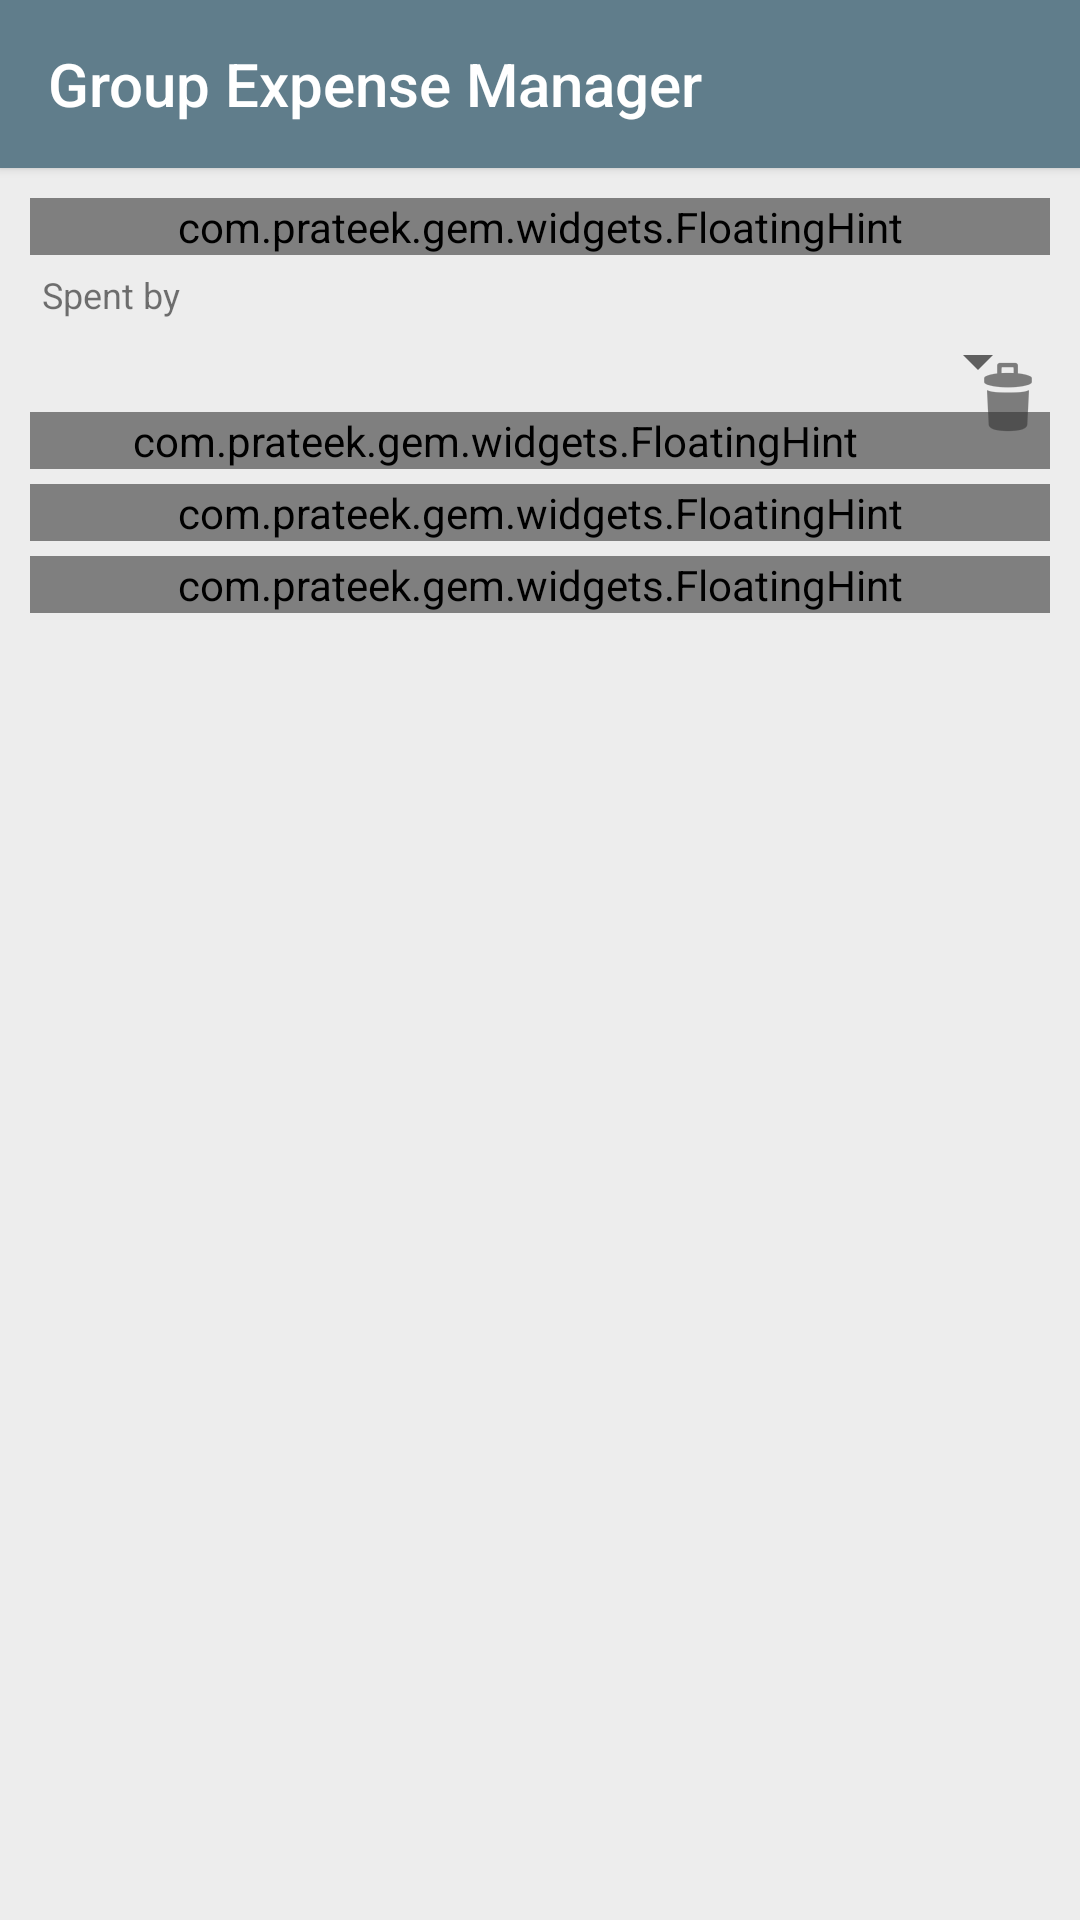

Named icons in this screenshot (1080×1920) and their bounding boxes, (left=x1, top=y1, right=x2, bottom=y2):
content discard: (left=966, top=355, right=1050, bottom=439)
